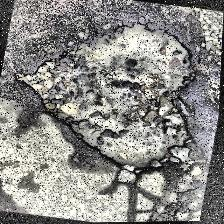pothole: (1, 7, 213, 184)
